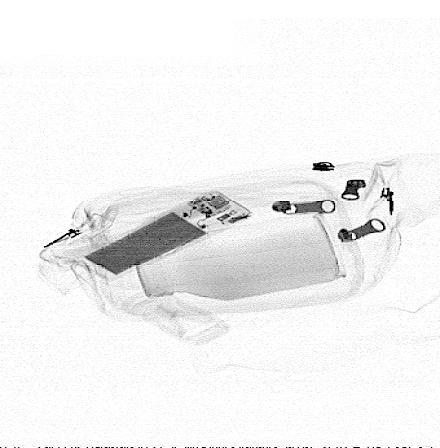Powerbank: (73, 188, 252, 282)
